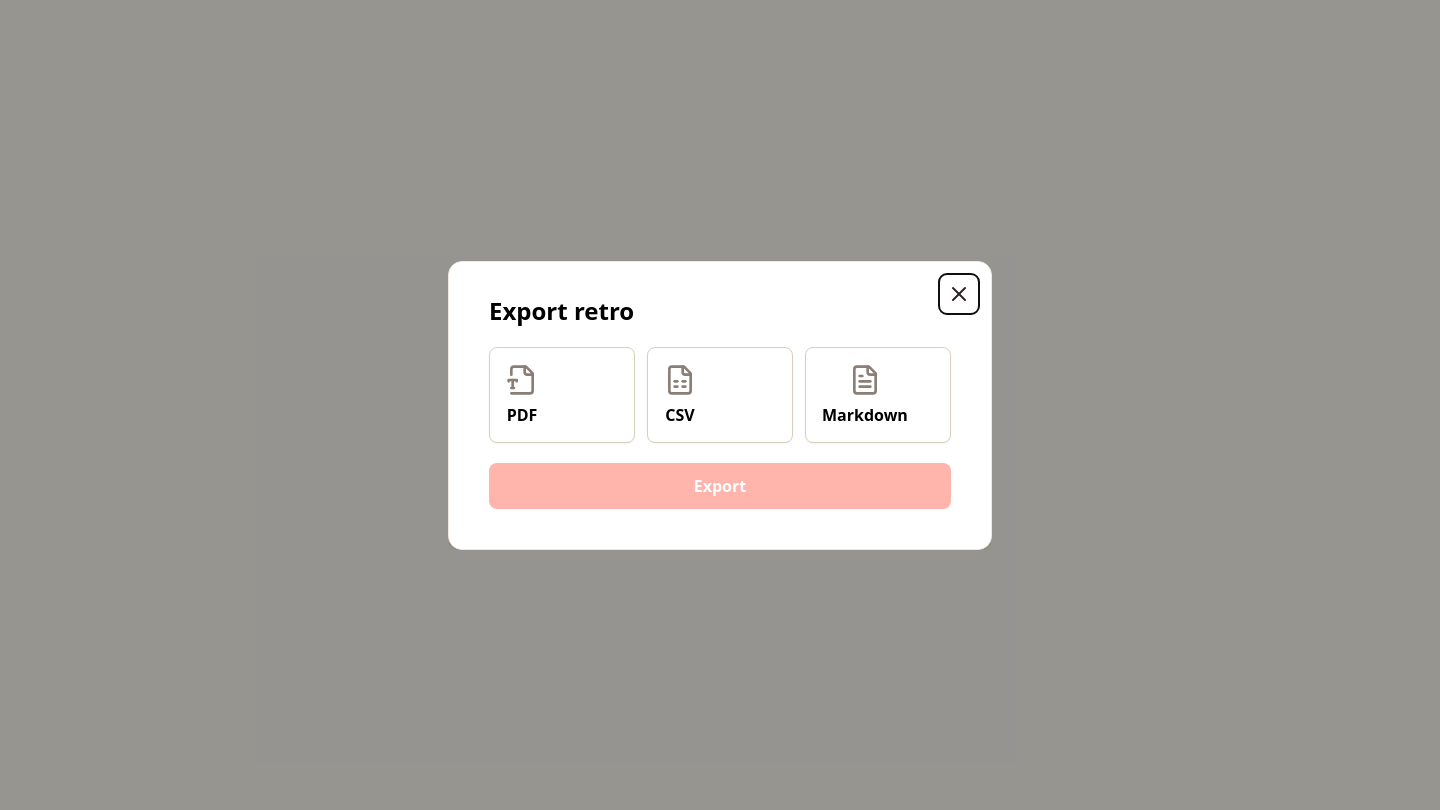
ExportModal › selecting a card enables Export and marks it pressed
Click the button "CSV": (720, 394) [647,346,793,442]
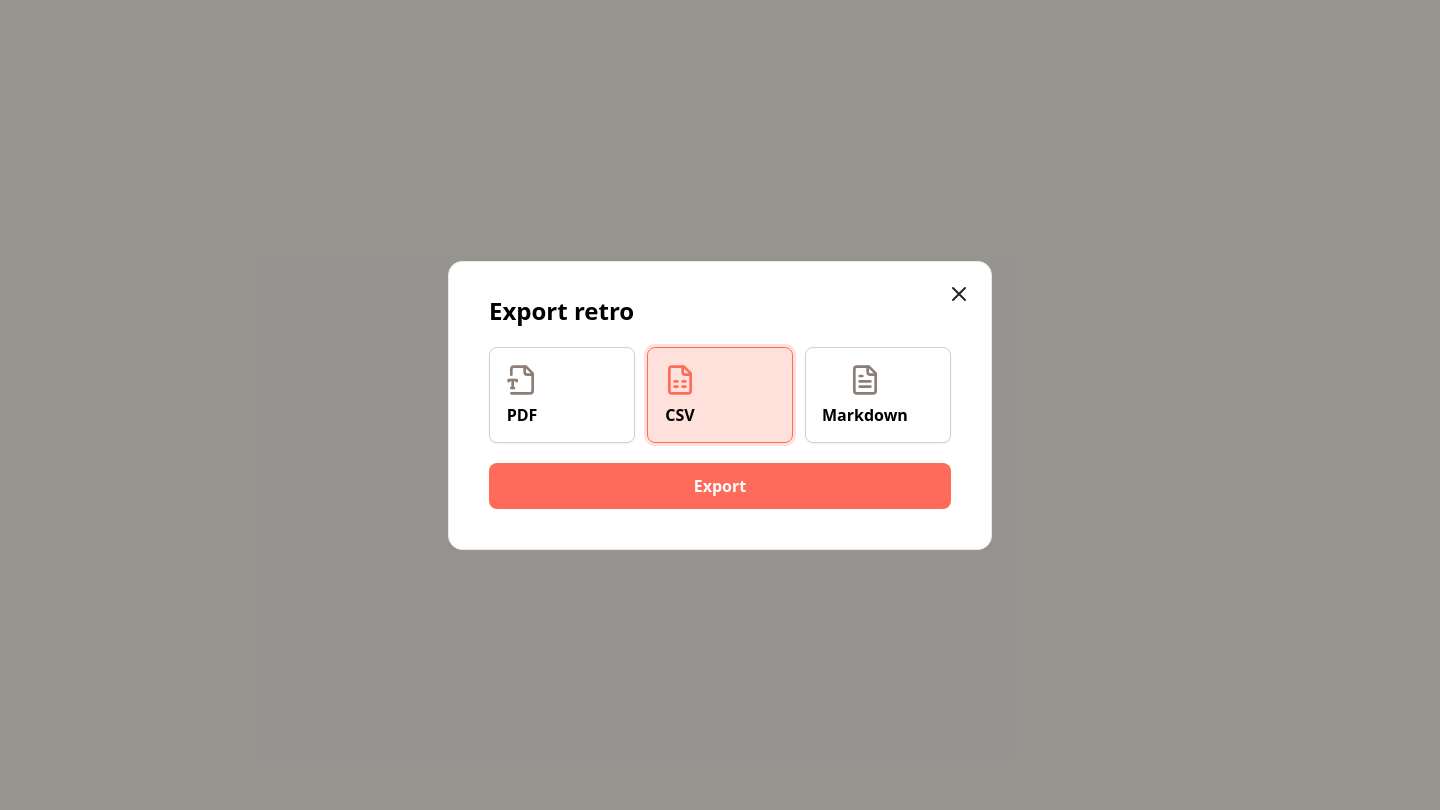
Result: the button "Export" is enabled at [489,462,951,508]
